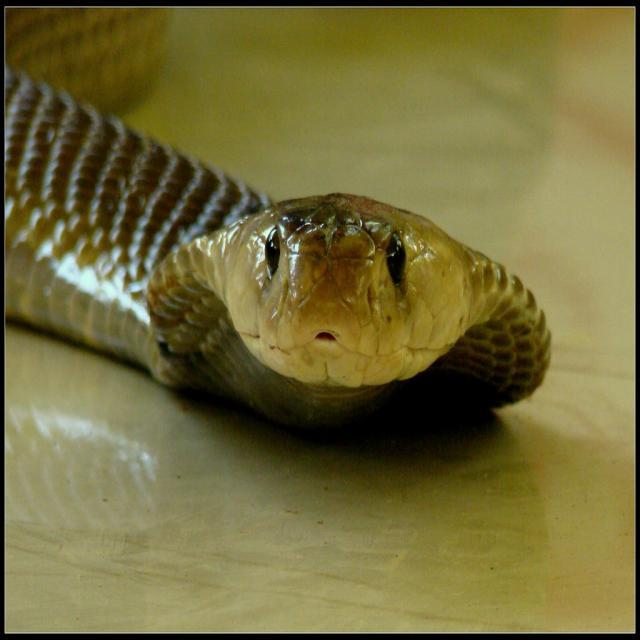Snake: (4, 59, 552, 431)
